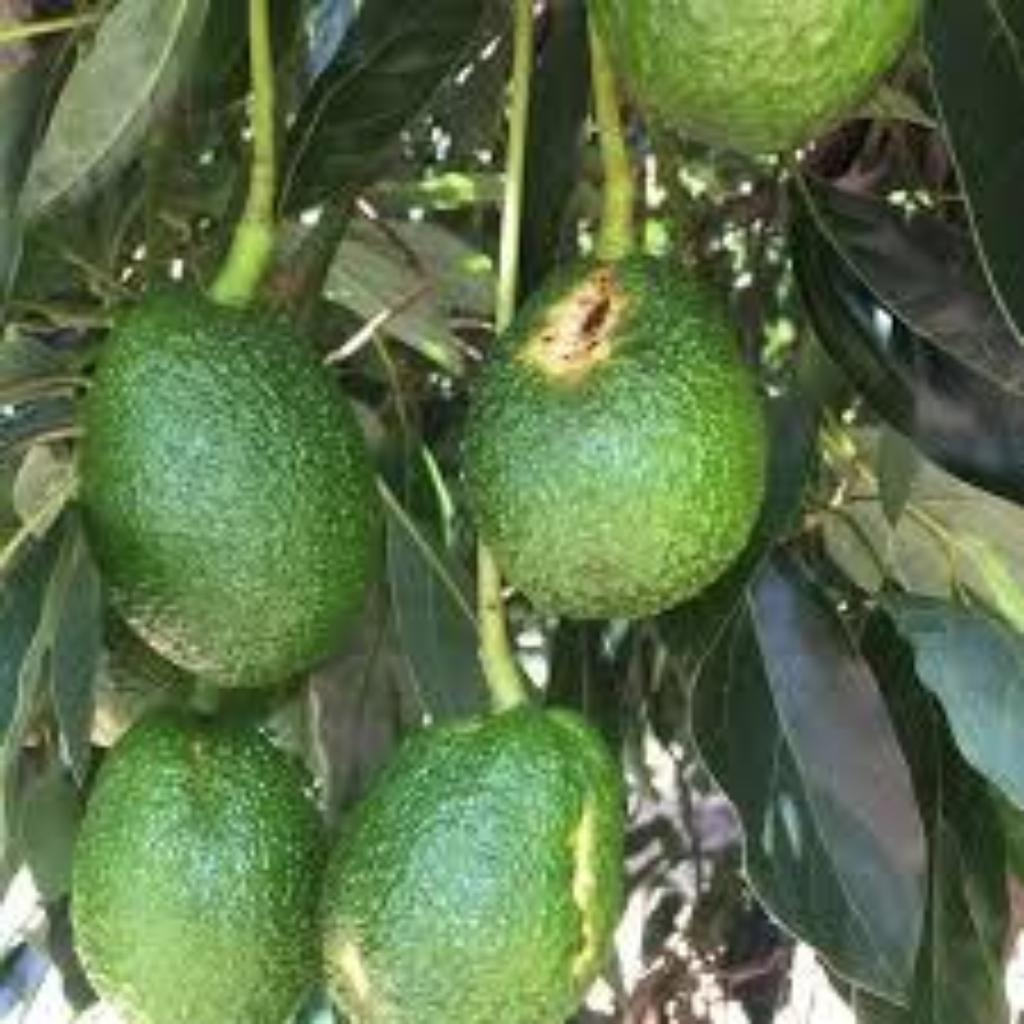Healthy: (70, 264, 408, 710), (45, 687, 323, 1024)
sunblotch: (278, 650, 792, 1024), (432, 188, 802, 644)
